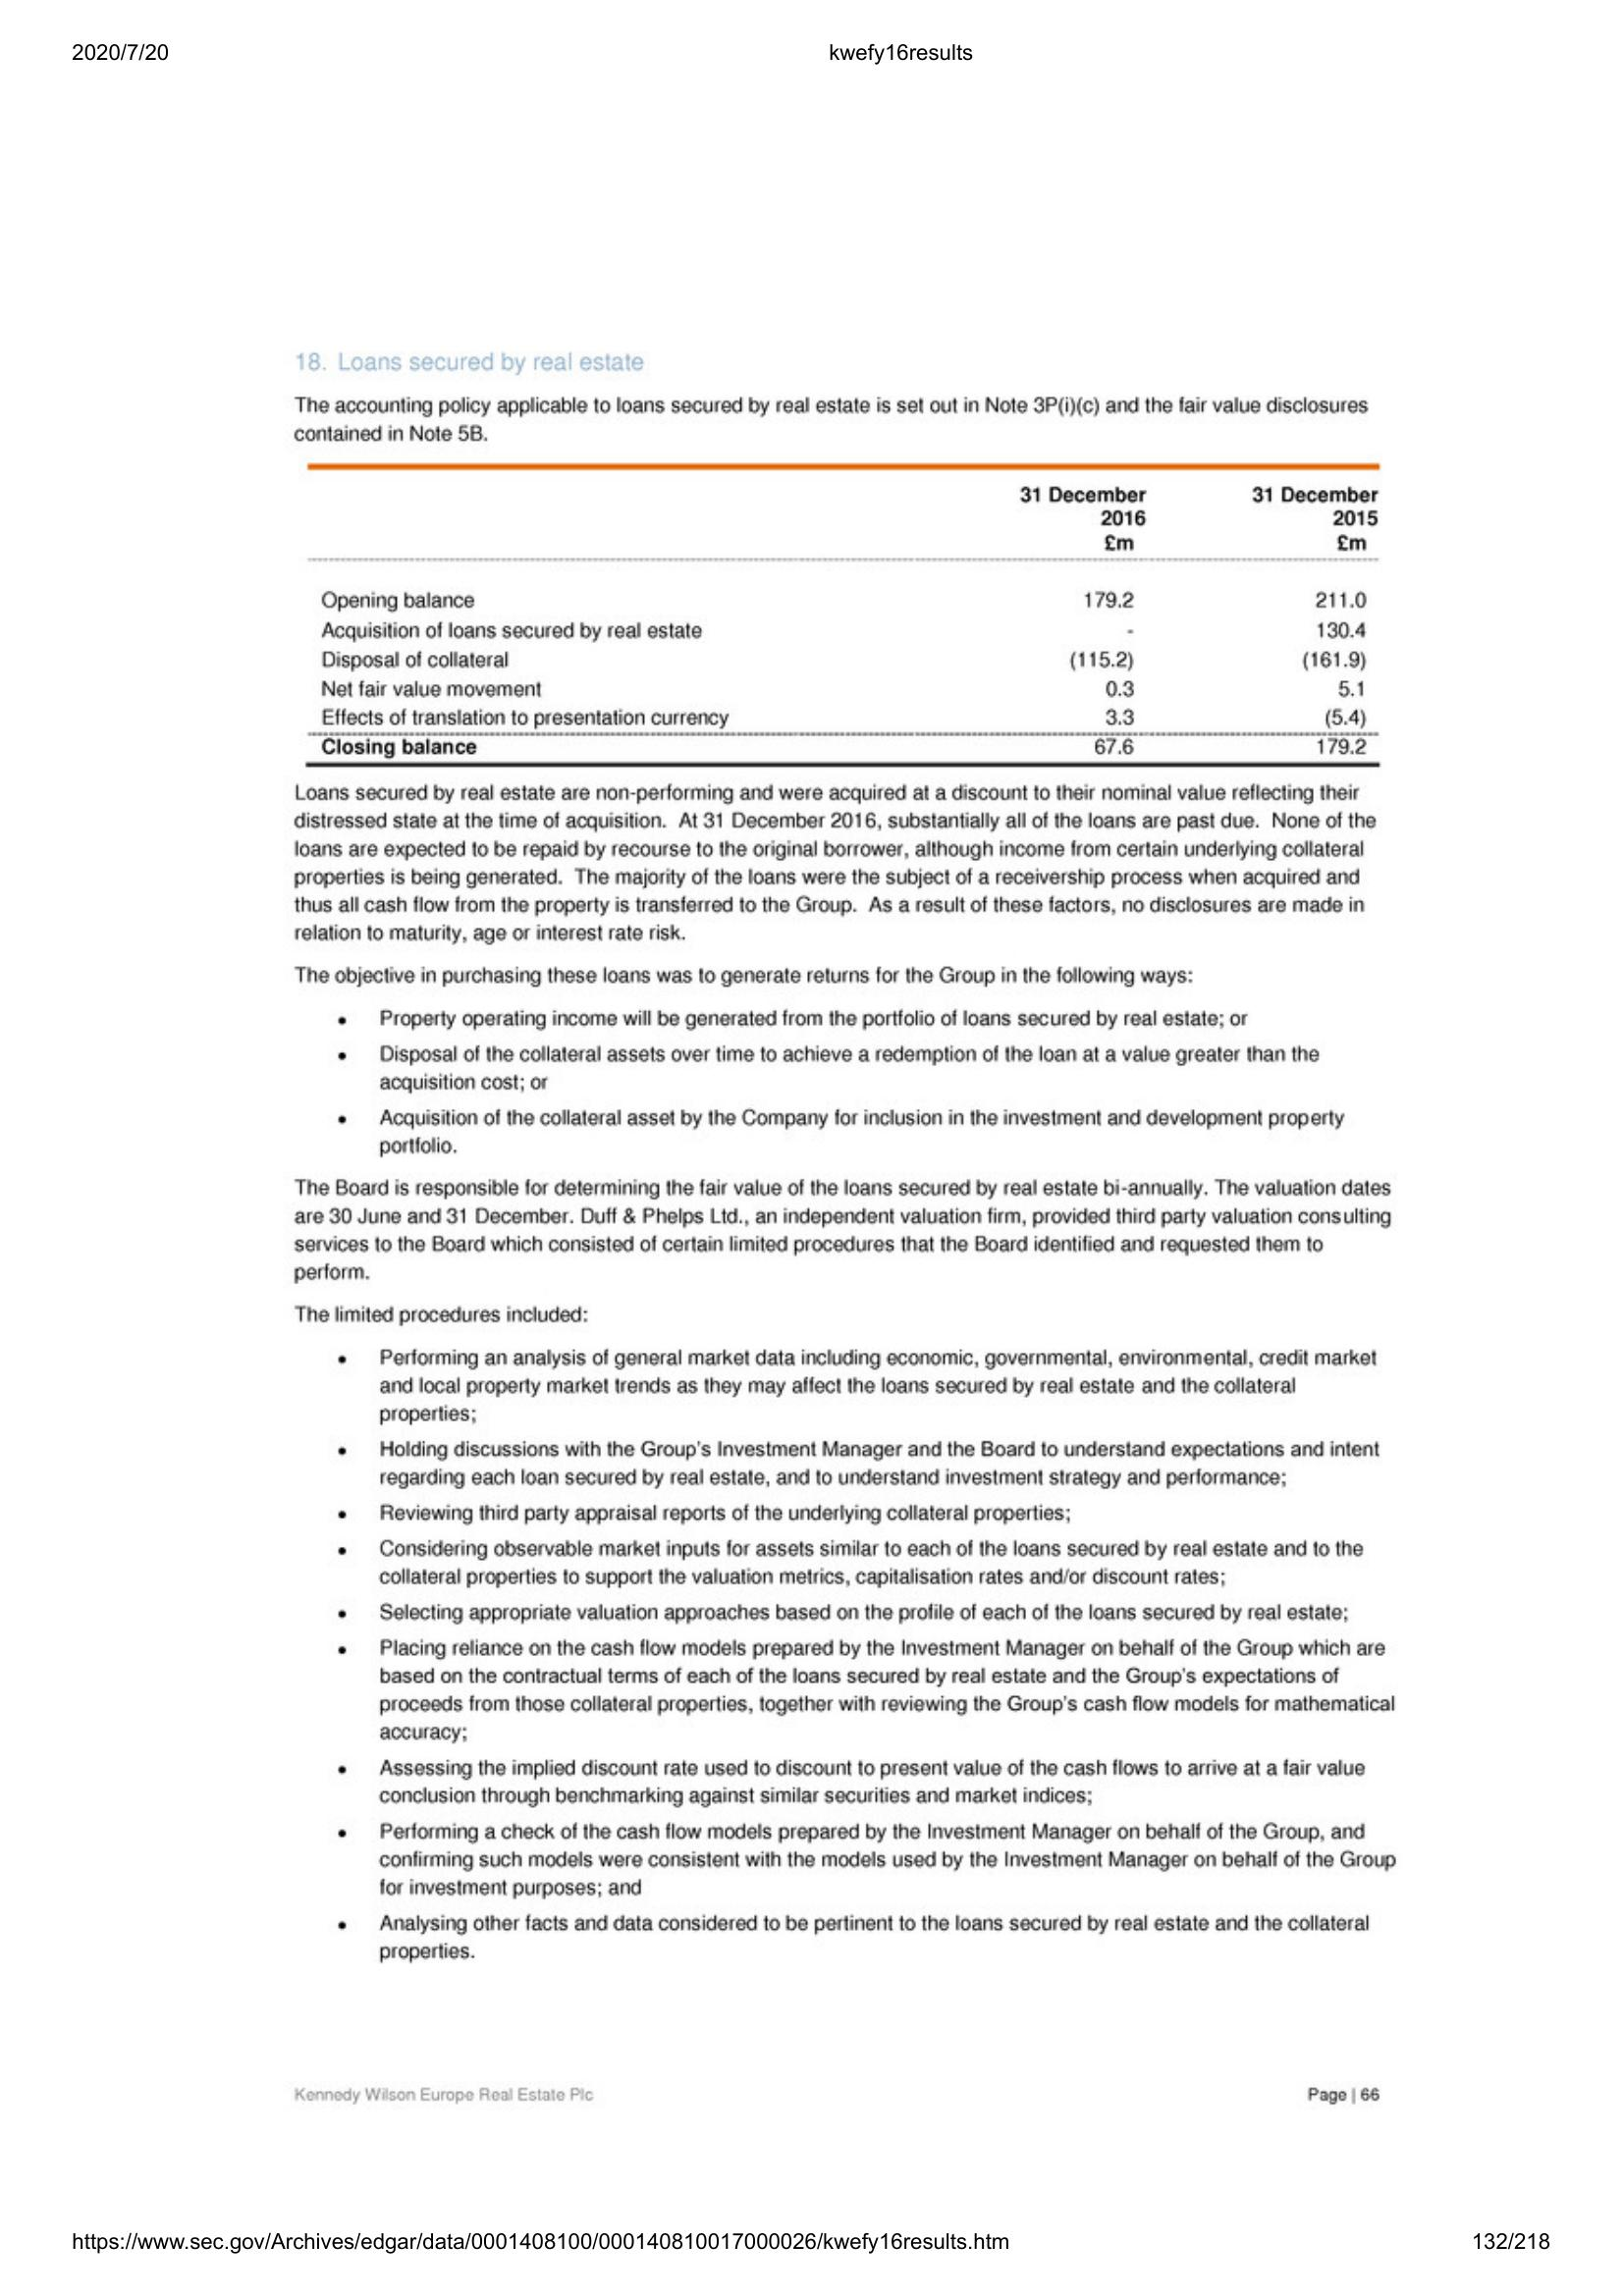table: (299, 458, 1389, 774)
